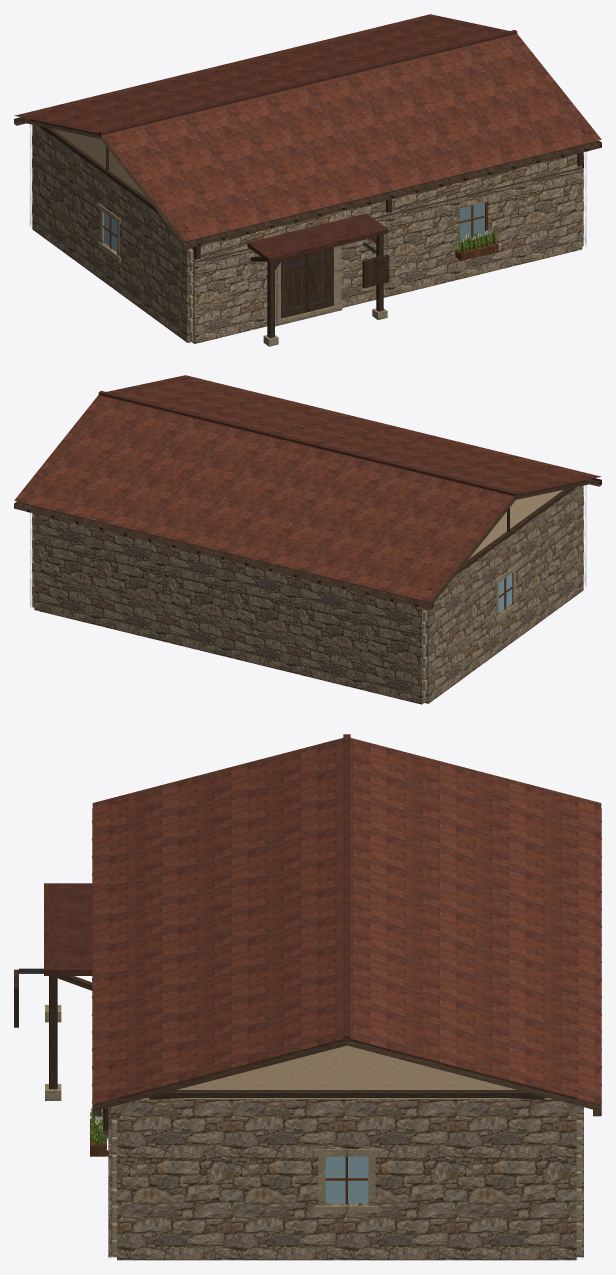
Rendered from B04_taller.gltf.
3 views of the same model, one above another, from view 1: azimuth 30°, elevation 25°; view 2: azimuth 150°, elevation 25°; view 3: azimuth 270°, elevation 25° (orthographic). The views are drawn at different scales.
Visible parts, largest first — view 1: AUR034_B04_clay_tiles, AUR034_B04_lower_masonry, B04_runtime_static_000, AUR034_B04_porch_clay_roof, B04_runtime_static_065, AUR034_B04_ridge, AUR034_B04_entry_leaf1, AUR034_B04_entry_leaf0, B04_runtime_static_082, B04_runtime_static_108, AUR034_B04_window0_glazing, B04_herbs_0 (+1 smaller); view 2: AUR034_B04_clay_tiles, AUR034_B04_lower_masonry, B04_runtime_static_000, AUR034_B04_ridge, B04_runtime_static_065, B04_runtime_static_108, B04_AUR034_B04_lower_masonry_corner_wear; view 3: AUR034_B04_clay_tiles, AUR034_B04_lower_masonry, B04_runtime_static_000, B04_runtime_static_108, AUR034_B04_porch_clay_roof, B04_runtime_static_065, AUR034_B04_ridge, AUR034_B04_side_window1_0_glass.
Boxes of the visible parts, left/top/right/bottom form: AUR034_B04_clay_tiles: left=14, top=14, right=601, bottom=241; AUR034_B04_lower_masonry: left=32, top=124, right=583, bottom=343; B04_runtime_static_000: left=14, top=17, right=601, bottom=338; AUR034_B04_porch_clay_roof: left=247, top=213, right=388, bottom=262; B04_runtime_static_065: left=32, top=136, right=583, bottom=346; AUR034_B04_ridge: left=98, top=30, right=517, bottom=136; AUR034_B04_entry_leaf1: left=306, top=247, right=333, bottom=312; AUR034_B04_entry_leaf0: left=281, top=254, right=306, bottom=318; B04_runtime_static_082: left=102, top=152, right=582, bottom=317; B04_runtime_static_108: left=53, top=129, right=146, bottom=197; AUR034_B04_window0_glazing: left=459, top=202, right=484, bottom=239; B04_herbs_0: left=456, top=230, right=497, bottom=252; AUR034_B04_clay_tiles: left=14, top=375, right=600, bottom=602; AUR034_B04_lower_masonry: left=32, top=485, right=583, bottom=704; B04_runtime_static_000: left=14, top=378, right=601, bottom=610; AUR034_B04_ridge: left=98, top=390, right=517, bottom=497; B04_runtime_static_065: left=32, top=497, right=583, bottom=702; B04_runtime_static_108: left=469, top=490, right=562, bottom=558; B04_AUR034_B04_lower_masonry_corner_wear: left=30, top=485, right=586, bottom=702; AUR034_B04_clay_tiles: left=92, top=738, right=601, bottom=1103; AUR034_B04_lower_masonry: left=108, top=1099, right=583, bottom=1260; B04_runtime_static_000: left=14, top=802, right=601, bottom=1156; B04_runtime_static_108: left=142, top=1045, right=551, bottom=1098; AUR034_B04_porch_clay_roof: left=44, top=883, right=92, bottom=975; B04_runtime_static_065: left=45, top=1005, right=581, bottom=1255; AUR034_B04_ridge: left=343, top=734, right=350, bottom=1041; AUR034_B04_side_window1_0_glass: left=325, top=1156, right=368, bottom=1203.
Bounding box in the file's own units: 13.96 × 5.05 × 11.51.
13 materials, 11 textured.
